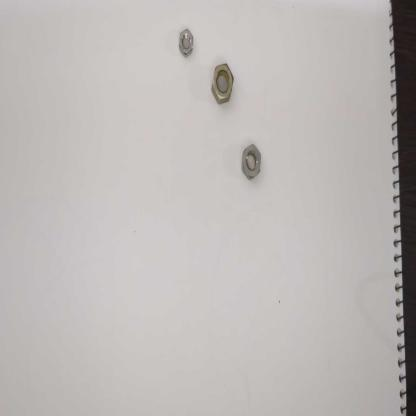NUTS: (208, 58, 238, 106), (240, 140, 264, 186), (178, 21, 196, 60)
